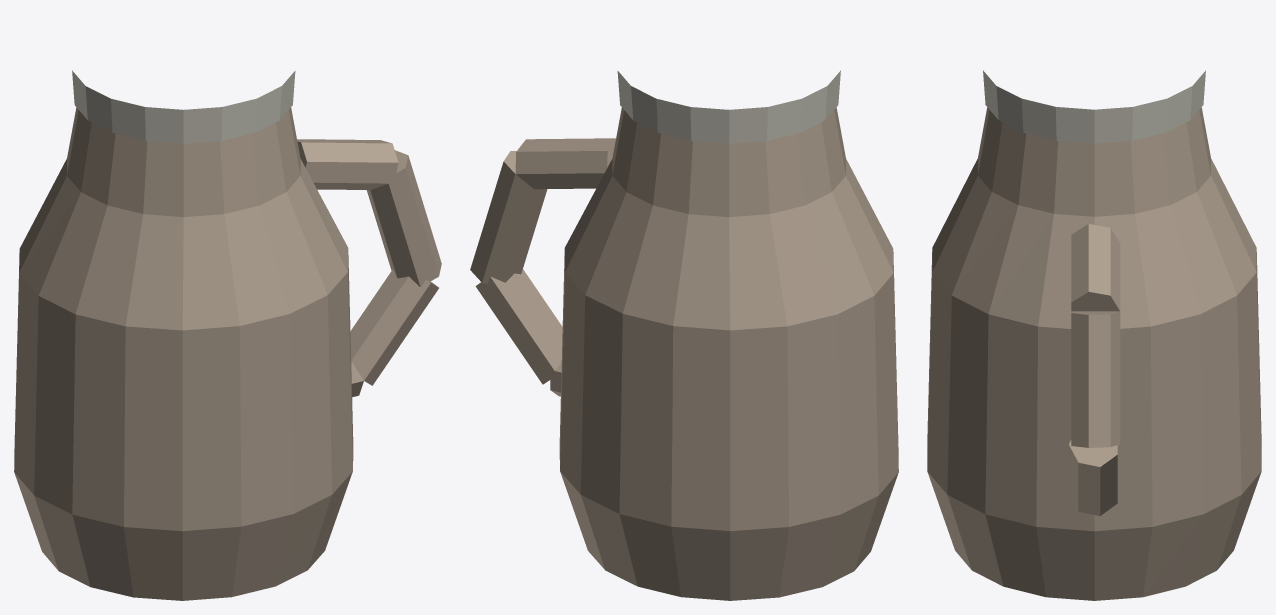
Rendered from krug_steingut.glb.
The picture shows the model from 3 angles, left to right: view 1: azimuth 30°, elevation 25°; view 2: azimuth 150°, elevation 25°; view 3: azimuth 270°, elevation 25°; orthographic projection.
Visible parts, largest first — view 1: krug_steingut_n1; view 2: krug_steingut_n1; view 3: krug_steingut_n1.
Part boxes in pixels (<box>): krug_steingut_n1: <box>14,70,441,600</box>; krug_steingut_n1: <box>470,70,898,600</box>; krug_steingut_n1: <box>927,70,1261,600</box>.
Size of the model in its own units: 0.1813 by 0.205 by 0.13.
